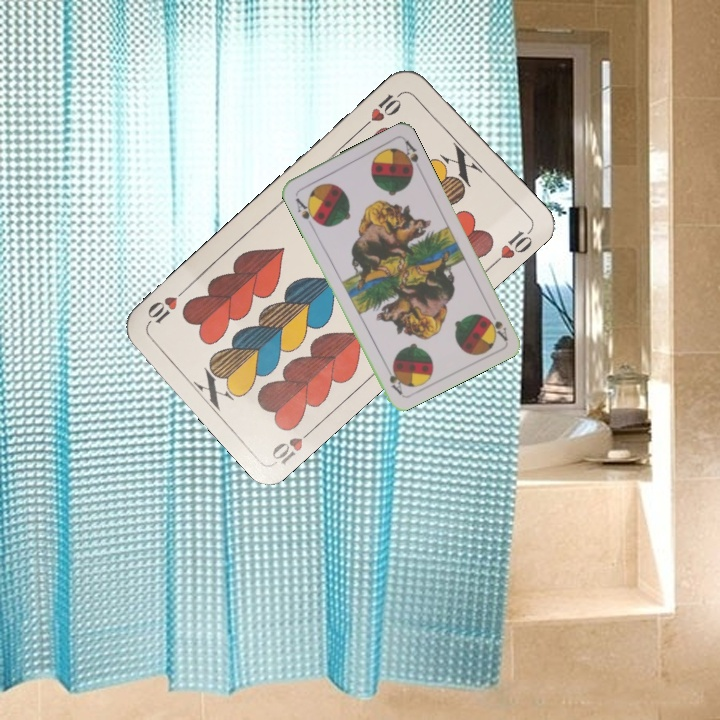H10: (267, 422, 319, 468), (359, 87, 407, 131)
SA: (482, 305, 510, 343), (291, 194, 320, 226)
